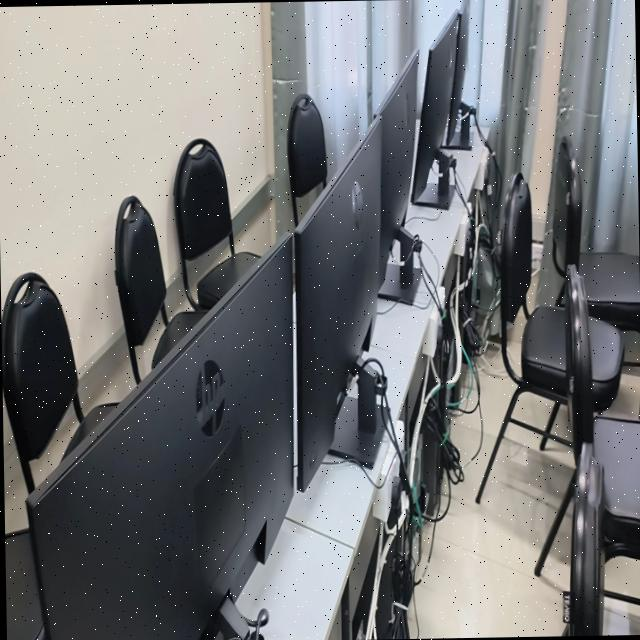Chair: (474, 171, 572, 502), (565, 265, 640, 636), (0, 272, 117, 492), (551, 135, 640, 336), (113, 195, 202, 381), (173, 138, 259, 310), (286, 93, 325, 226), (584, 292, 622, 411), (4, 527, 43, 640), (554, 137, 580, 294)
Monitor: (26, 234, 292, 640), (292, 121, 379, 490), (0, 272, 117, 492), (113, 195, 202, 381), (173, 138, 259, 310), (410, 11, 460, 202), (378, 51, 417, 284), (286, 93, 325, 226), (445, 0, 468, 144)
